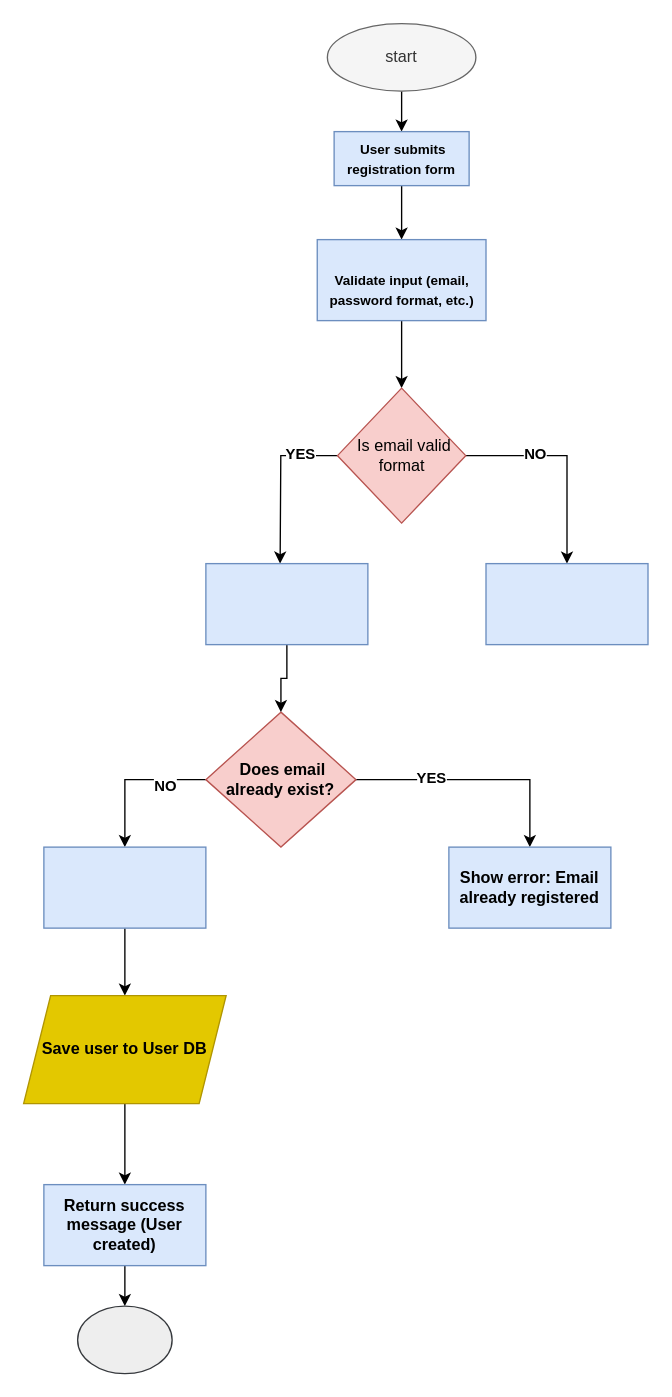
Image size: 672x1397. Some labels were removed from this diagram. The box of each missing label's shape, as (x1, y1, x2, y2) in pixels:
Check if email already exists: (205, 562, 368, 645)
End: (76, 1305, 172, 1374)
Hash password: (43, 846, 206, 928)
Show error: Invalid email: (485, 562, 648, 645)
